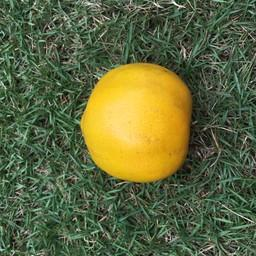Good_orange: (79, 57, 192, 192)
